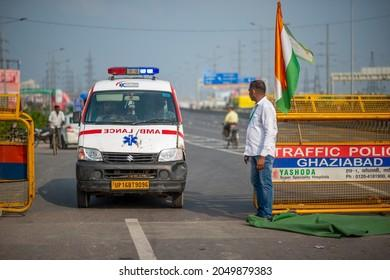ER: (77, 66, 186, 210)
